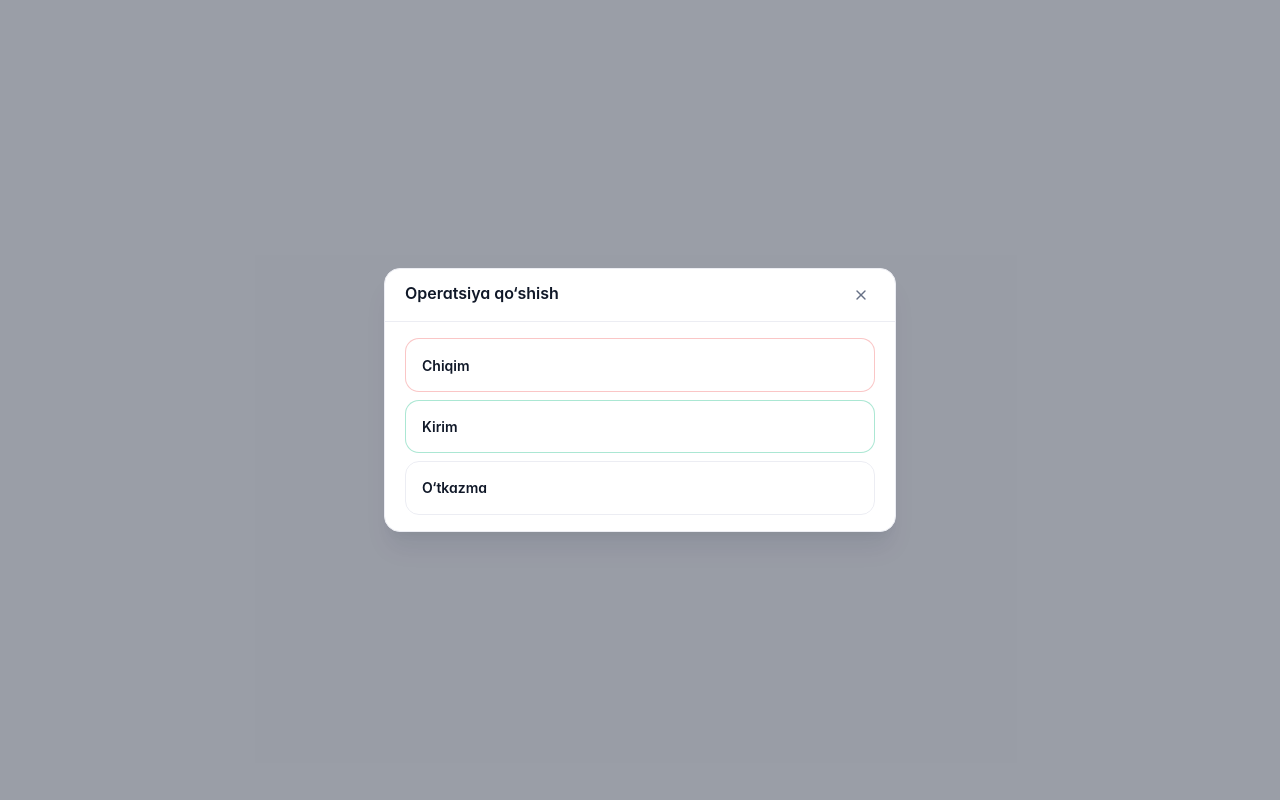
Scenario: AddMoneySheet › offers income, expense and transfer without treating transfer as a category
Expected: the button "Kirim" is shown, [405,400,875,453]
Expected: the button "O‘tkazma" is shown, [405,461,875,515]
Click the button "Chiqim" at (446, 365), box [405,338,875,392]
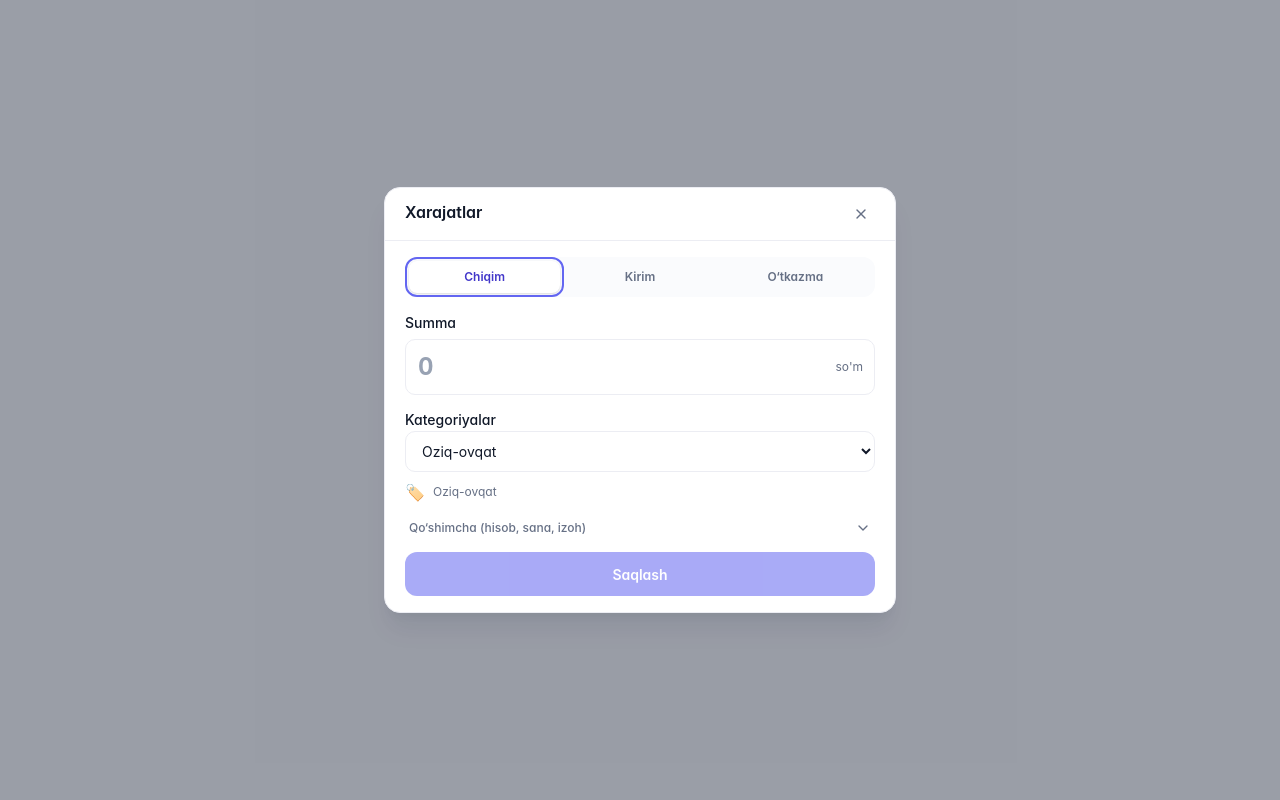
Click the button "O‘tkazma" at (795, 277), box [720,261,871,293]
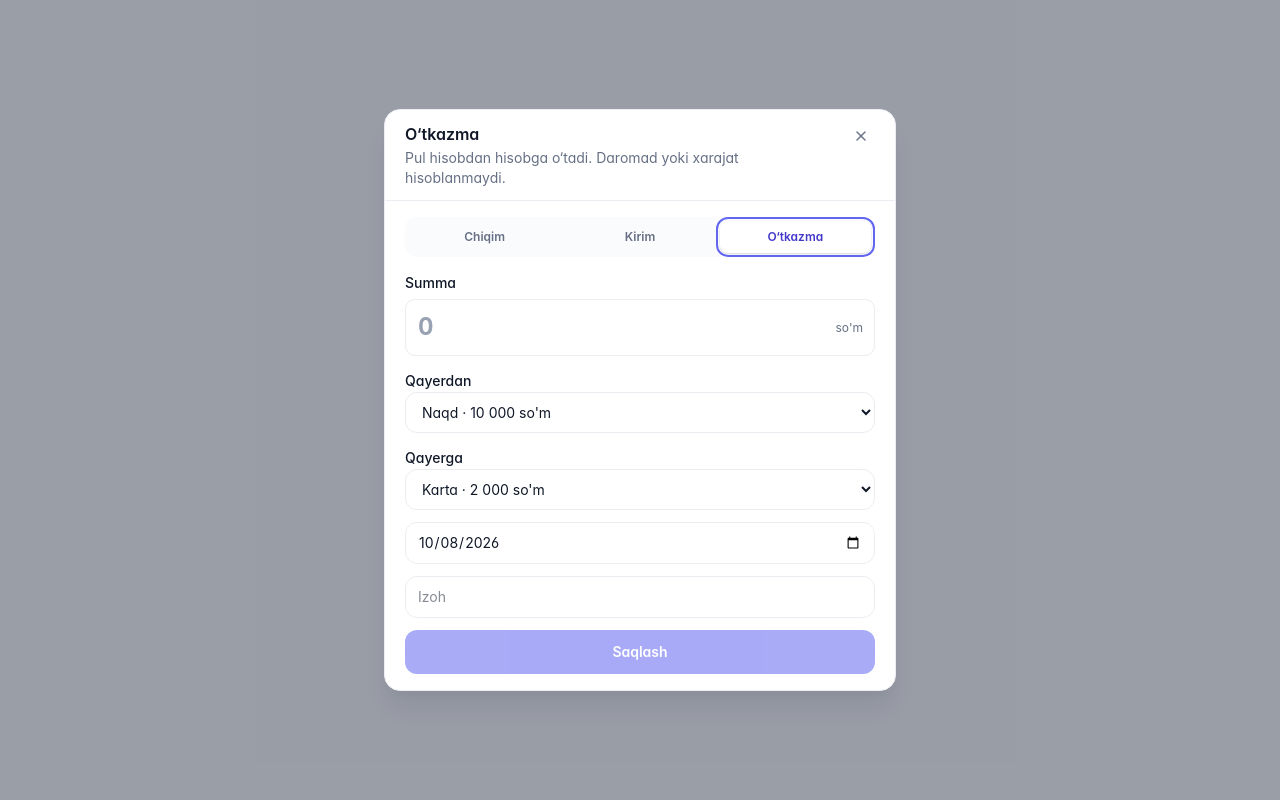
Expected: the text "Pul hisobdan hisobga o‘tadi. Daromad yoki xarajat hisoblanmaydi." is shown, [405,149,739,186]
Expected: the text "Qayerdan" is shown, [405,372,471,389]
Expected: the text "Qayerga" is shown, [405,449,463,466]
